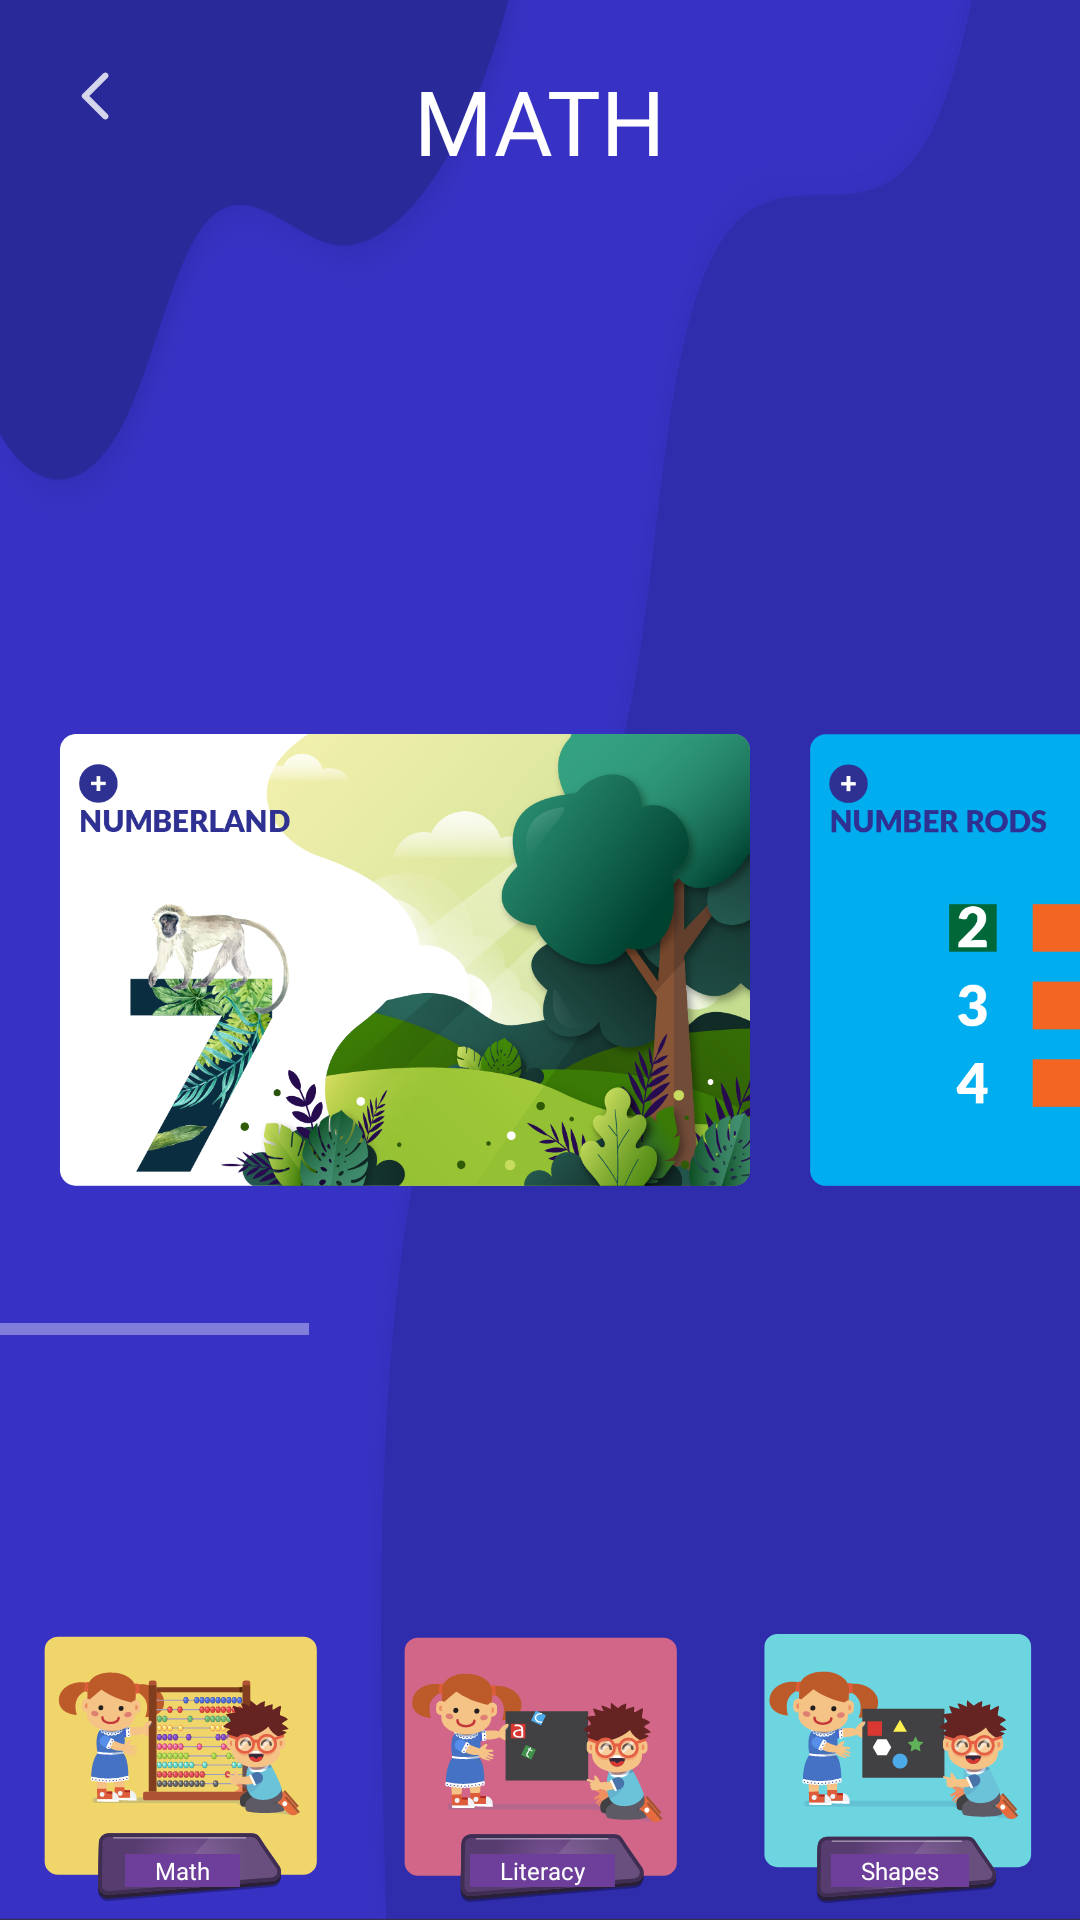

Icons on this 1080×1920 Android screen, each with the point to tap as (x=x, y=y):
back: (x=95, y=96)
